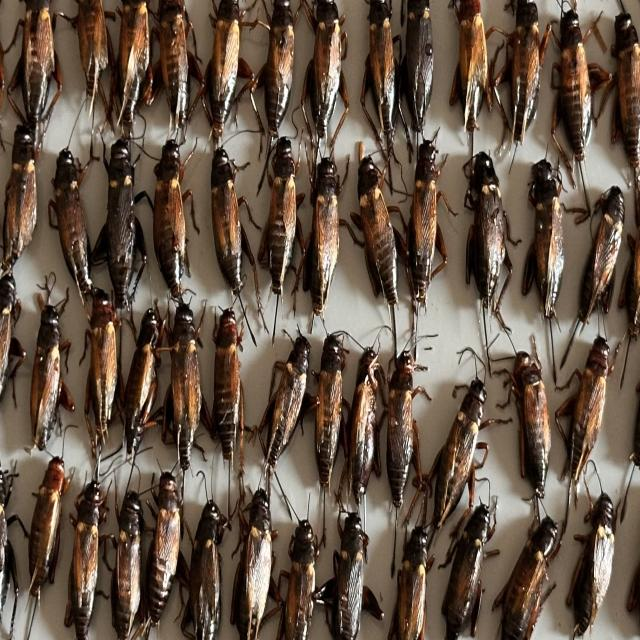egg: (557, 337, 613, 498), (431, 378, 485, 525), (497, 519, 559, 640), (104, 140, 147, 310), (442, 503, 495, 640), (521, 159, 564, 319), (568, 494, 615, 640), (351, 157, 397, 306), (259, 335, 310, 467), (164, 301, 202, 471), (346, 349, 388, 502), (231, 488, 273, 640), (467, 152, 508, 306), (17, 0, 61, 141), (51, 148, 92, 299), (85, 288, 119, 468), (578, 187, 623, 323), (321, 513, 368, 640), (260, 137, 297, 293), (512, 353, 551, 499), (123, 310, 162, 455), (304, 157, 339, 317), (145, 472, 181, 626), (306, 0, 344, 144), (181, 501, 220, 640), (152, 140, 186, 299), (507, 0, 545, 142), (29, 457, 68, 595), (612, 11, 640, 201), (556, 8, 591, 160), (159, 0, 199, 131), (407, 141, 438, 310), (67, 482, 100, 640), (205, 0, 241, 143), (2, 125, 37, 268), (387, 525, 430, 640), (450, 0, 488, 130), (110, 492, 143, 640), (213, 309, 243, 471), (258, 0, 294, 134), (116, 0, 150, 138), (315, 335, 345, 490), (366, 0, 396, 154), (211, 148, 242, 296), (30, 305, 61, 449), (386, 352, 414, 510), (401, 0, 433, 133), (283, 520, 316, 640), (74, 0, 108, 102), (0, 275, 17, 400), (625, 203, 640, 336), (0, 469, 8, 577)
